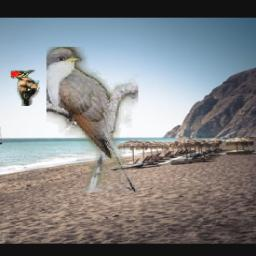Cuckoo: (45, 48, 137, 193)
Woodpecker: (11, 71, 41, 107)
